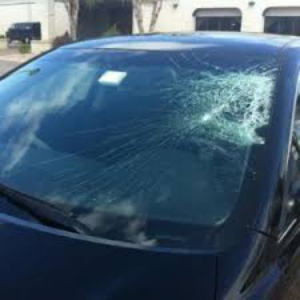front_windshield_glass: (37, 66, 272, 225)
